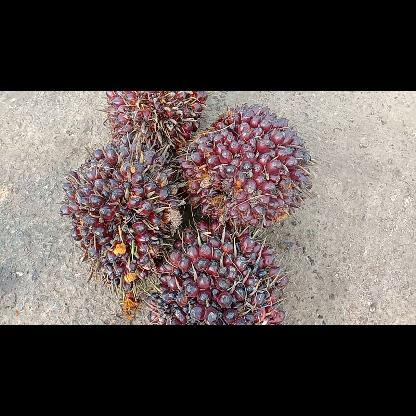Kurang masak: (57, 140, 187, 302), (146, 216, 292, 324), (102, 90, 212, 154)
TBS masak: (176, 101, 316, 229)
